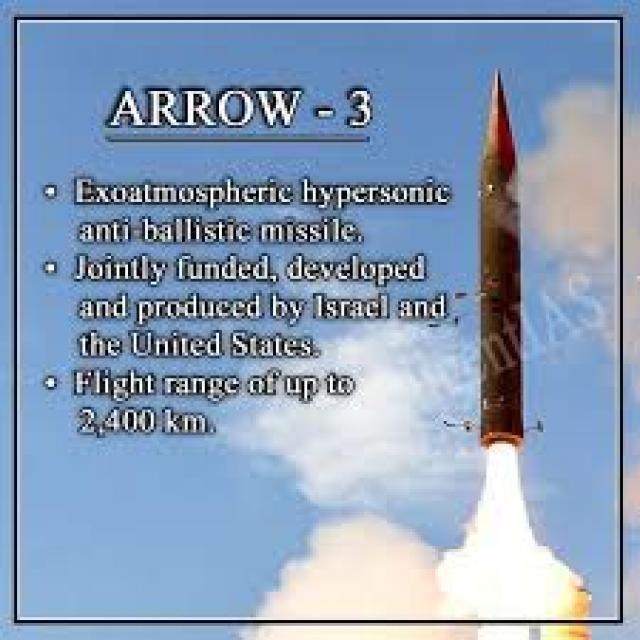Missile: (468, 48, 537, 484)
